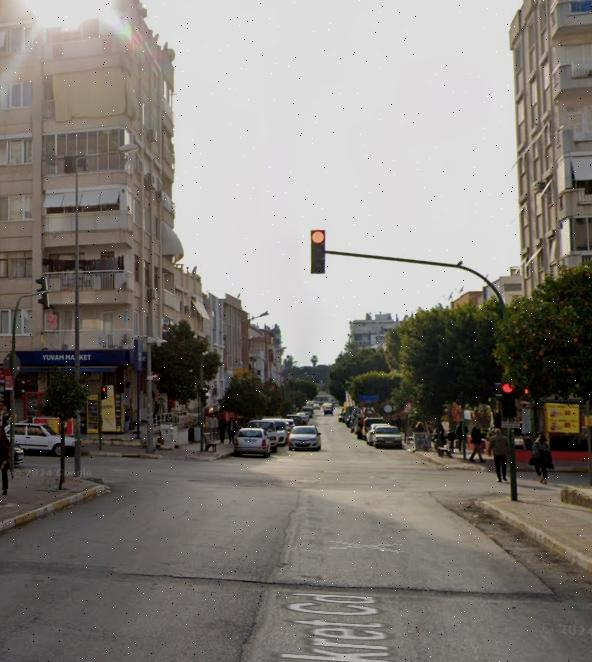redlight: (500, 377, 521, 428), (312, 229, 324, 276)
